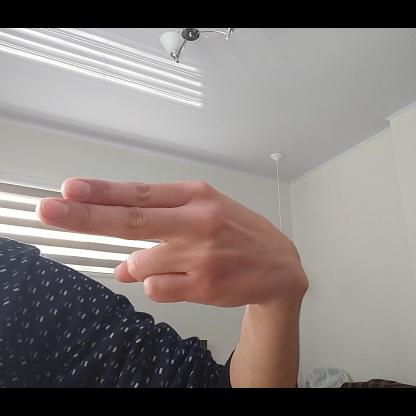H: (37, 175, 310, 309)
